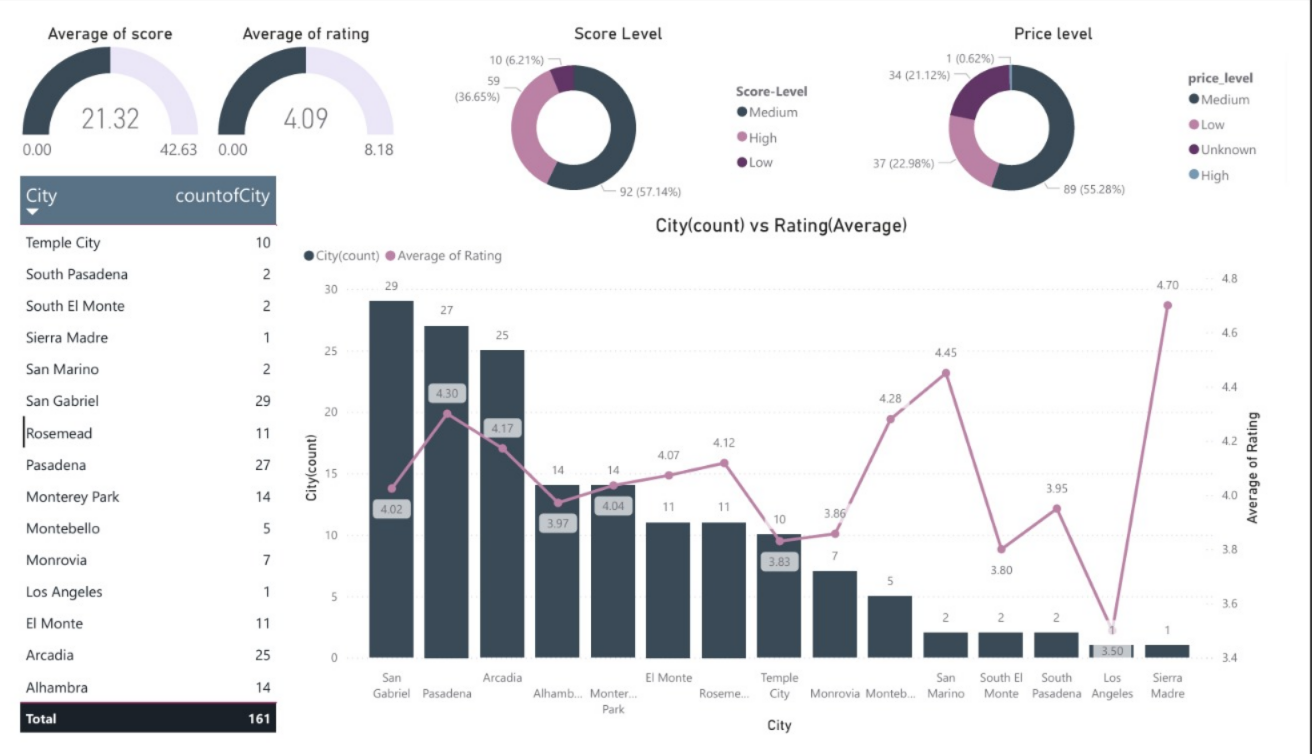

The dashboard page shown, as its layout file describes it:
{"tool":"powerbi","page":{"name":"Page 1","canvas":[1280,720],"ordinal":0},"visuals":[{"type":"donutChart","title":"Price level","fields":{"Category":["store.price_level"],"Y":["store.count_of_Price_level"]},"box":[820.9,0,448.8,191.9],"z":1000},{"type":"donutChart","title":"Score Level","fields":{"Category":["store.Score-Level"],"Y":["CountNonNull(store.Score-Level)"]},"box":[394.2,0,426.7,191.9],"z":2000},{"type":"lineClusteredColumnComboChart","title":"City(count) vs Rating(Average)","fields":{"Category":["store.City"],"Y":["store.countofCity"],"Y2":["Avg(store.rating)"]},"box":[284.9,191.9,973.3,527.9],"z":4000},{"type":"gauge","fields":{"Y":["Avg(store.rating)"]},"box":[191.9,0,202.3,148.8],"z":6000},{"type":"gauge","fields":{"Y":["Avg(store.score)"]},"box":[0,0,191.9,148.8],"z":6001},{"type":"tableEx","fields":{"Values":["store.City","store.countofCity"]},"box":[0,148.8,284.9,570.9],"z":6002}]}

Visuals, with their boxes in screenshot pixels (x1, y1, x2, y2), scaled from the page's 1280x720 canvas onto the 1312x754 screenshot:
"Price level" donutChart: x1=841 y1=0 x2=1301 y2=201
"Score Level" donutChart: x1=404 y1=0 x2=841 y2=201
"City(count) vs Rating(Average)" lineClusteredColumnComboChart: x1=292 y1=201 x2=1290 y2=753
gauge - Avg(store.rating): x1=197 y1=0 x2=404 y2=156
gauge - Avg(store.score): x1=0 y1=0 x2=197 y2=156
tableEx - store.City x store.countofCity: x1=0 y1=156 x2=292 y2=753
